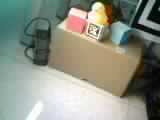duck: (82, 3, 111, 27)
